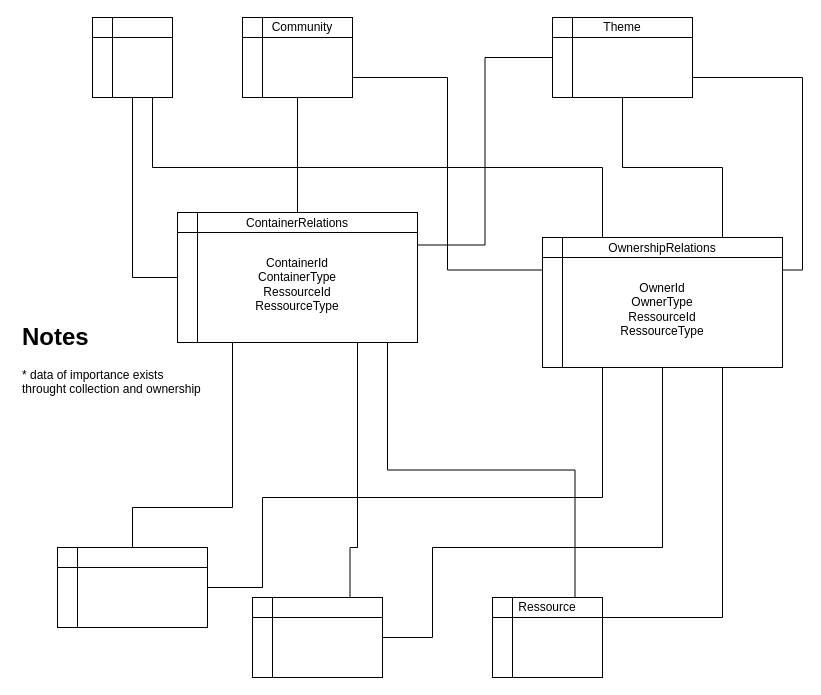
Some shapes in this 821 by 695 pixel diagram are drawn without their labels. Each missing label, with the centre of its shape:
"Collection" belongs at [317,637].
"Tag" belongs at [132,587].
"User" belongs at [132,57].
